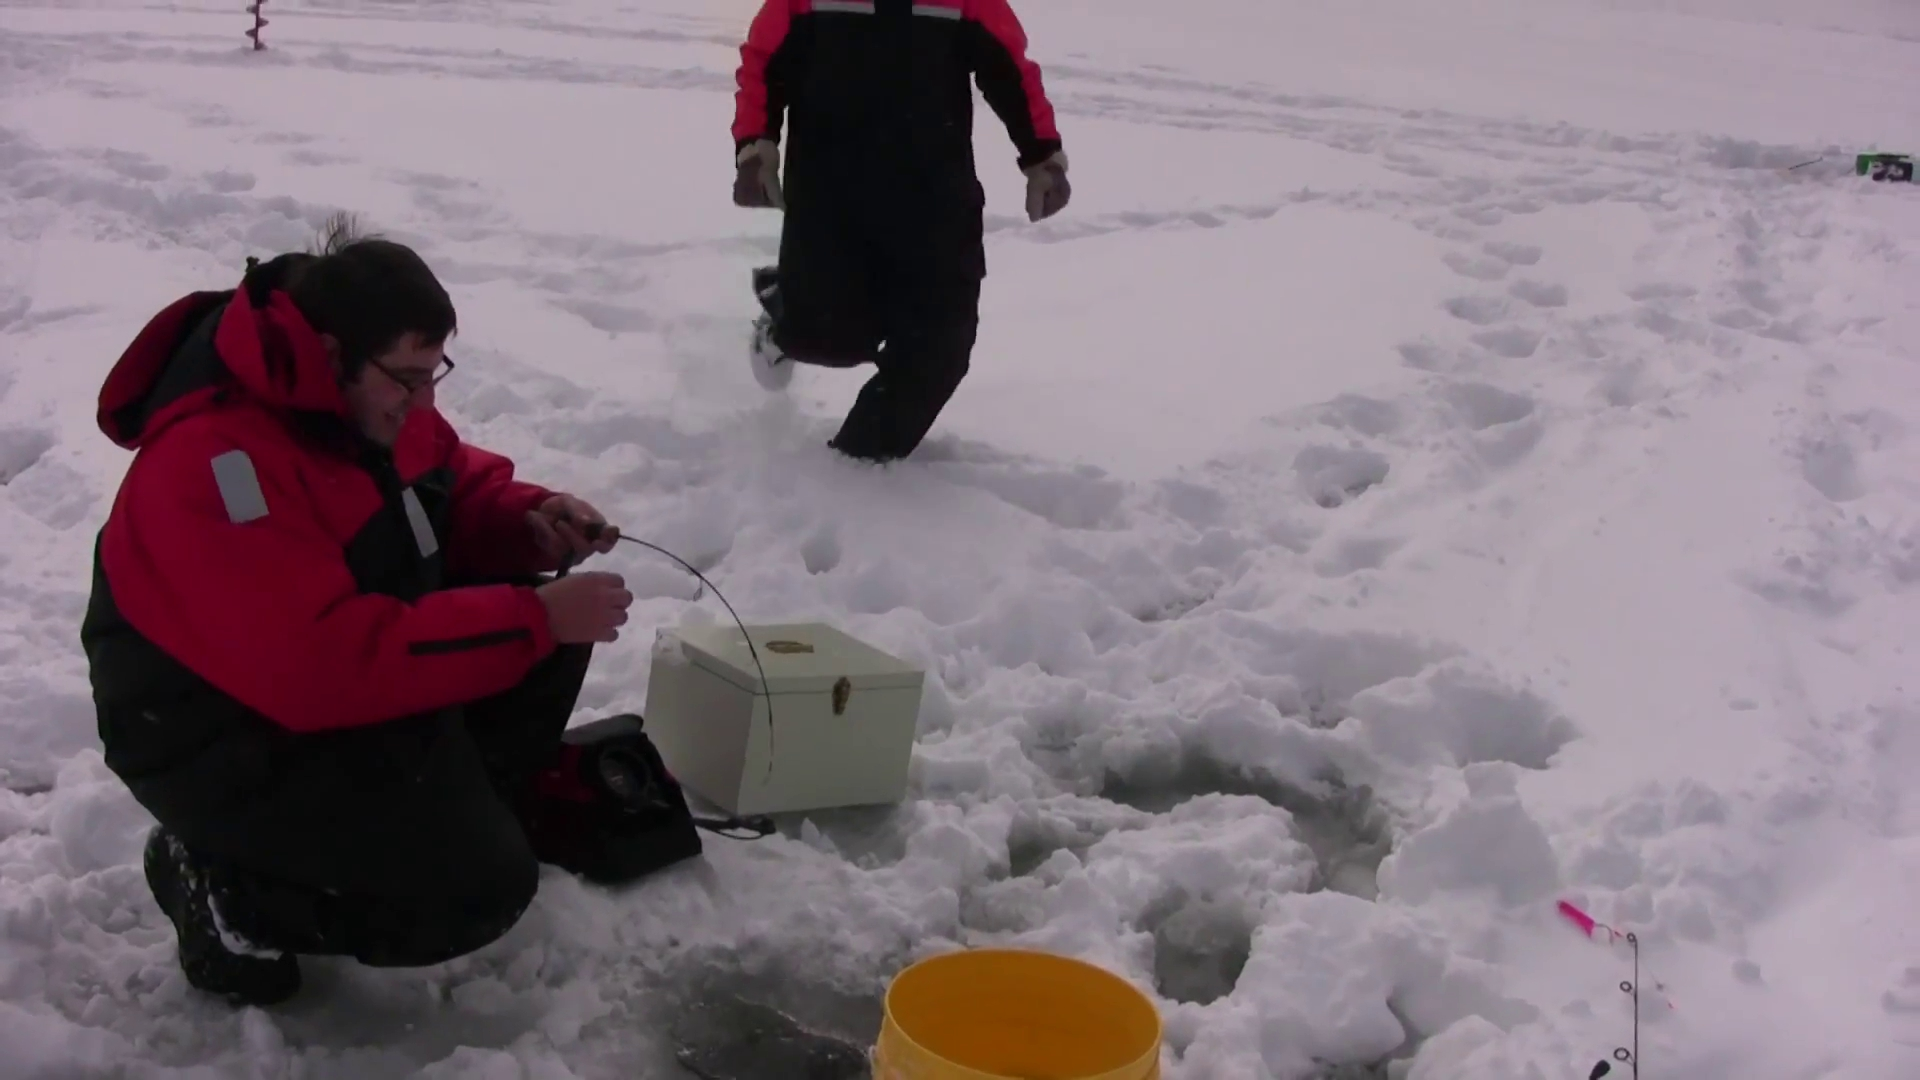person: (81, 239, 632, 1005), (731, 1, 1073, 466)
